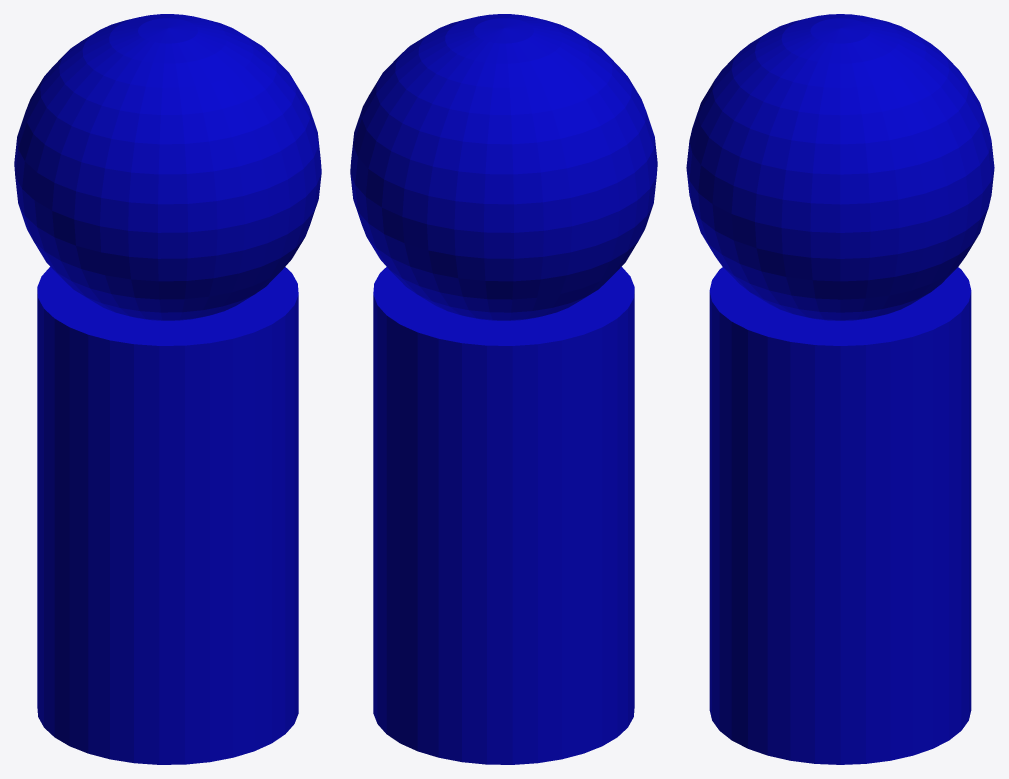
File: testBlue.dae
The picture shows the model from 3 angles, left to right: view 1: azimuth 30°, elevation 25°; view 2: azimuth 150°, elevation 25°; view 3: azimuth 270°, elevation 25°; orthographic projection.
Visible parts, largest first — view 1: testBlue; view 2: testBlue; view 3: testBlue.
Part boxes in pixels (box(x1,y1,x2,y2)): testBlue: box(14, 14, 321, 764); testBlue: box(350, 14, 657, 764); testBlue: box(686, 14, 994, 764).
Bounding box in the file's own units: 2 × 4.88 × 2.
